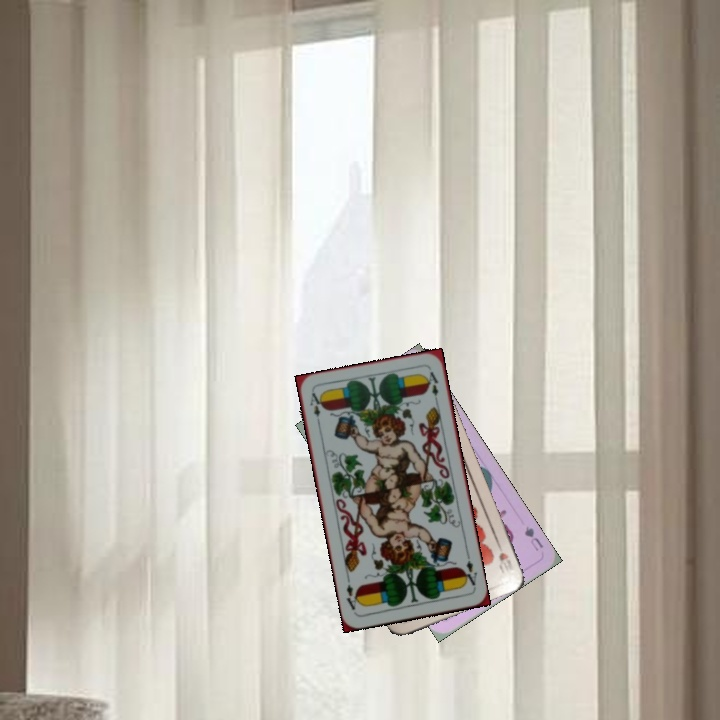EA: (459, 550, 480, 591), (306, 389, 325, 428)
GU: (520, 522, 546, 554)
H10: (492, 537, 518, 577)
